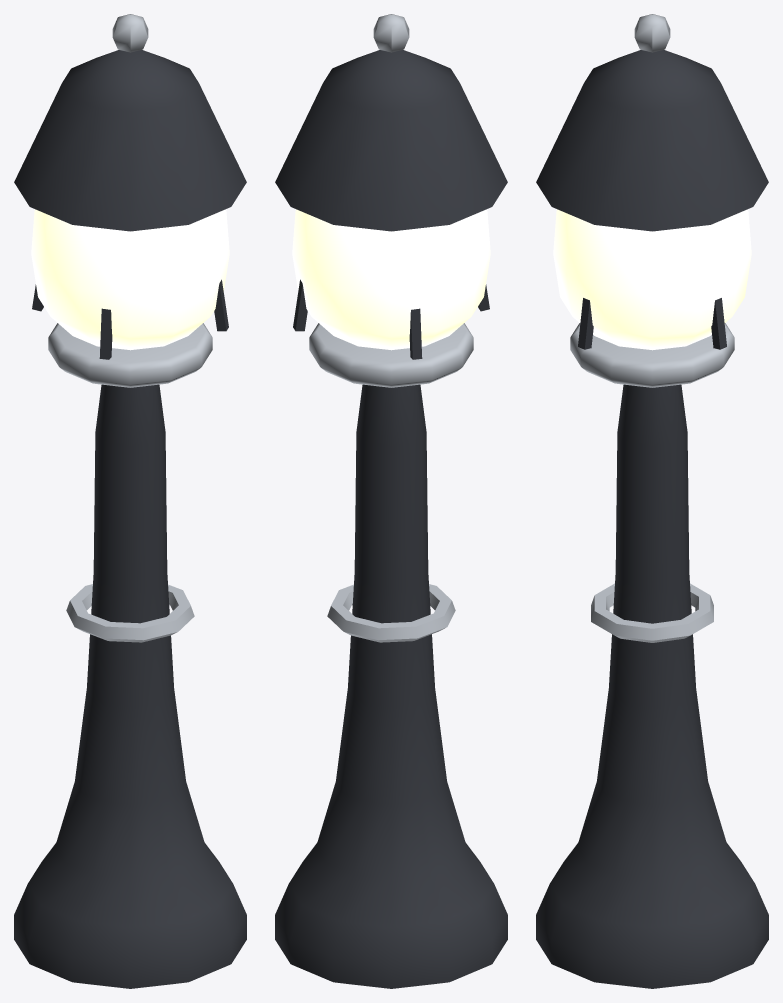
The model's file is garden_lamp_low.glb.
3 renders of one model, left to right at view 1: azimuth 30°, elevation 25°; view 2: azimuth 150°, elevation 25°; view 3: azimuth 270°, elevation 25°, orthographic.
Parts seen in each view (by area): view 1: garden_lamp_low; view 2: garden_lamp_low; view 3: garden_lamp_low.
Part boxes in pixels (x1,y1,x2,y2): garden_lamp_low: (14, 14, 246, 988); garden_lamp_low: (275, 14, 507, 988); garden_lamp_low: (536, 14, 768, 988).
Size of the model in its own units: 0.34 by 1.51 by 0.34.
